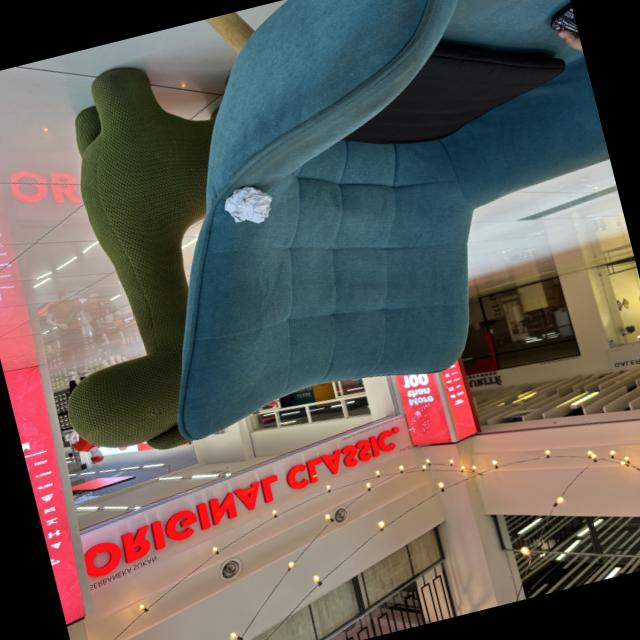crumpled_paper: (218, 176, 280, 234)
